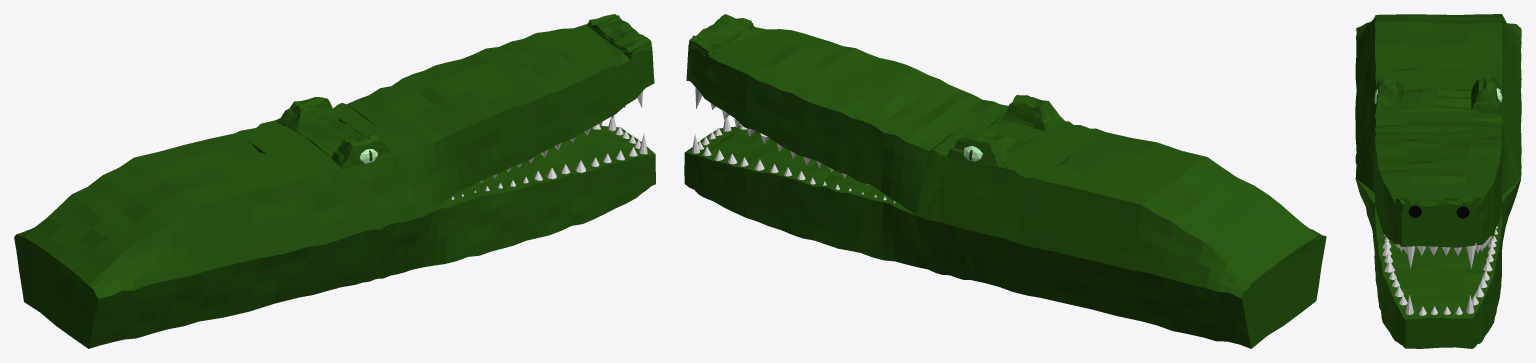
Rendered from Cocodrilo Boca Abierta.fbx.
The picture shows the model from 3 angles, left to right: view 1: azimuth 30°, elevation 25°; view 2: azimuth 150°, elevation 25°; view 3: azimuth 270°, elevation 25°; orthographic projection. The views are drawn at different scales.
Parts seen in each view (by area): view 1: Cube; view 2: Cube; view 3: Cube.
Part boxes in pixels (x1,y1,x2,y2): Cube: (14,14,655,348); Cube: (684,14,1326,348); Cube: (1355,14,1521,348).
Size of the model in its own units: 240 by 63.38 by 61.1.
